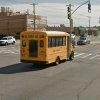Bus: (19, 28, 71, 69)
